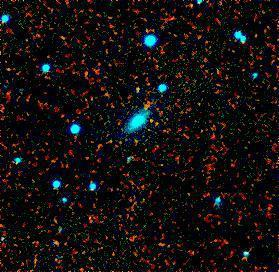star: (119, 74, 149, 104)
